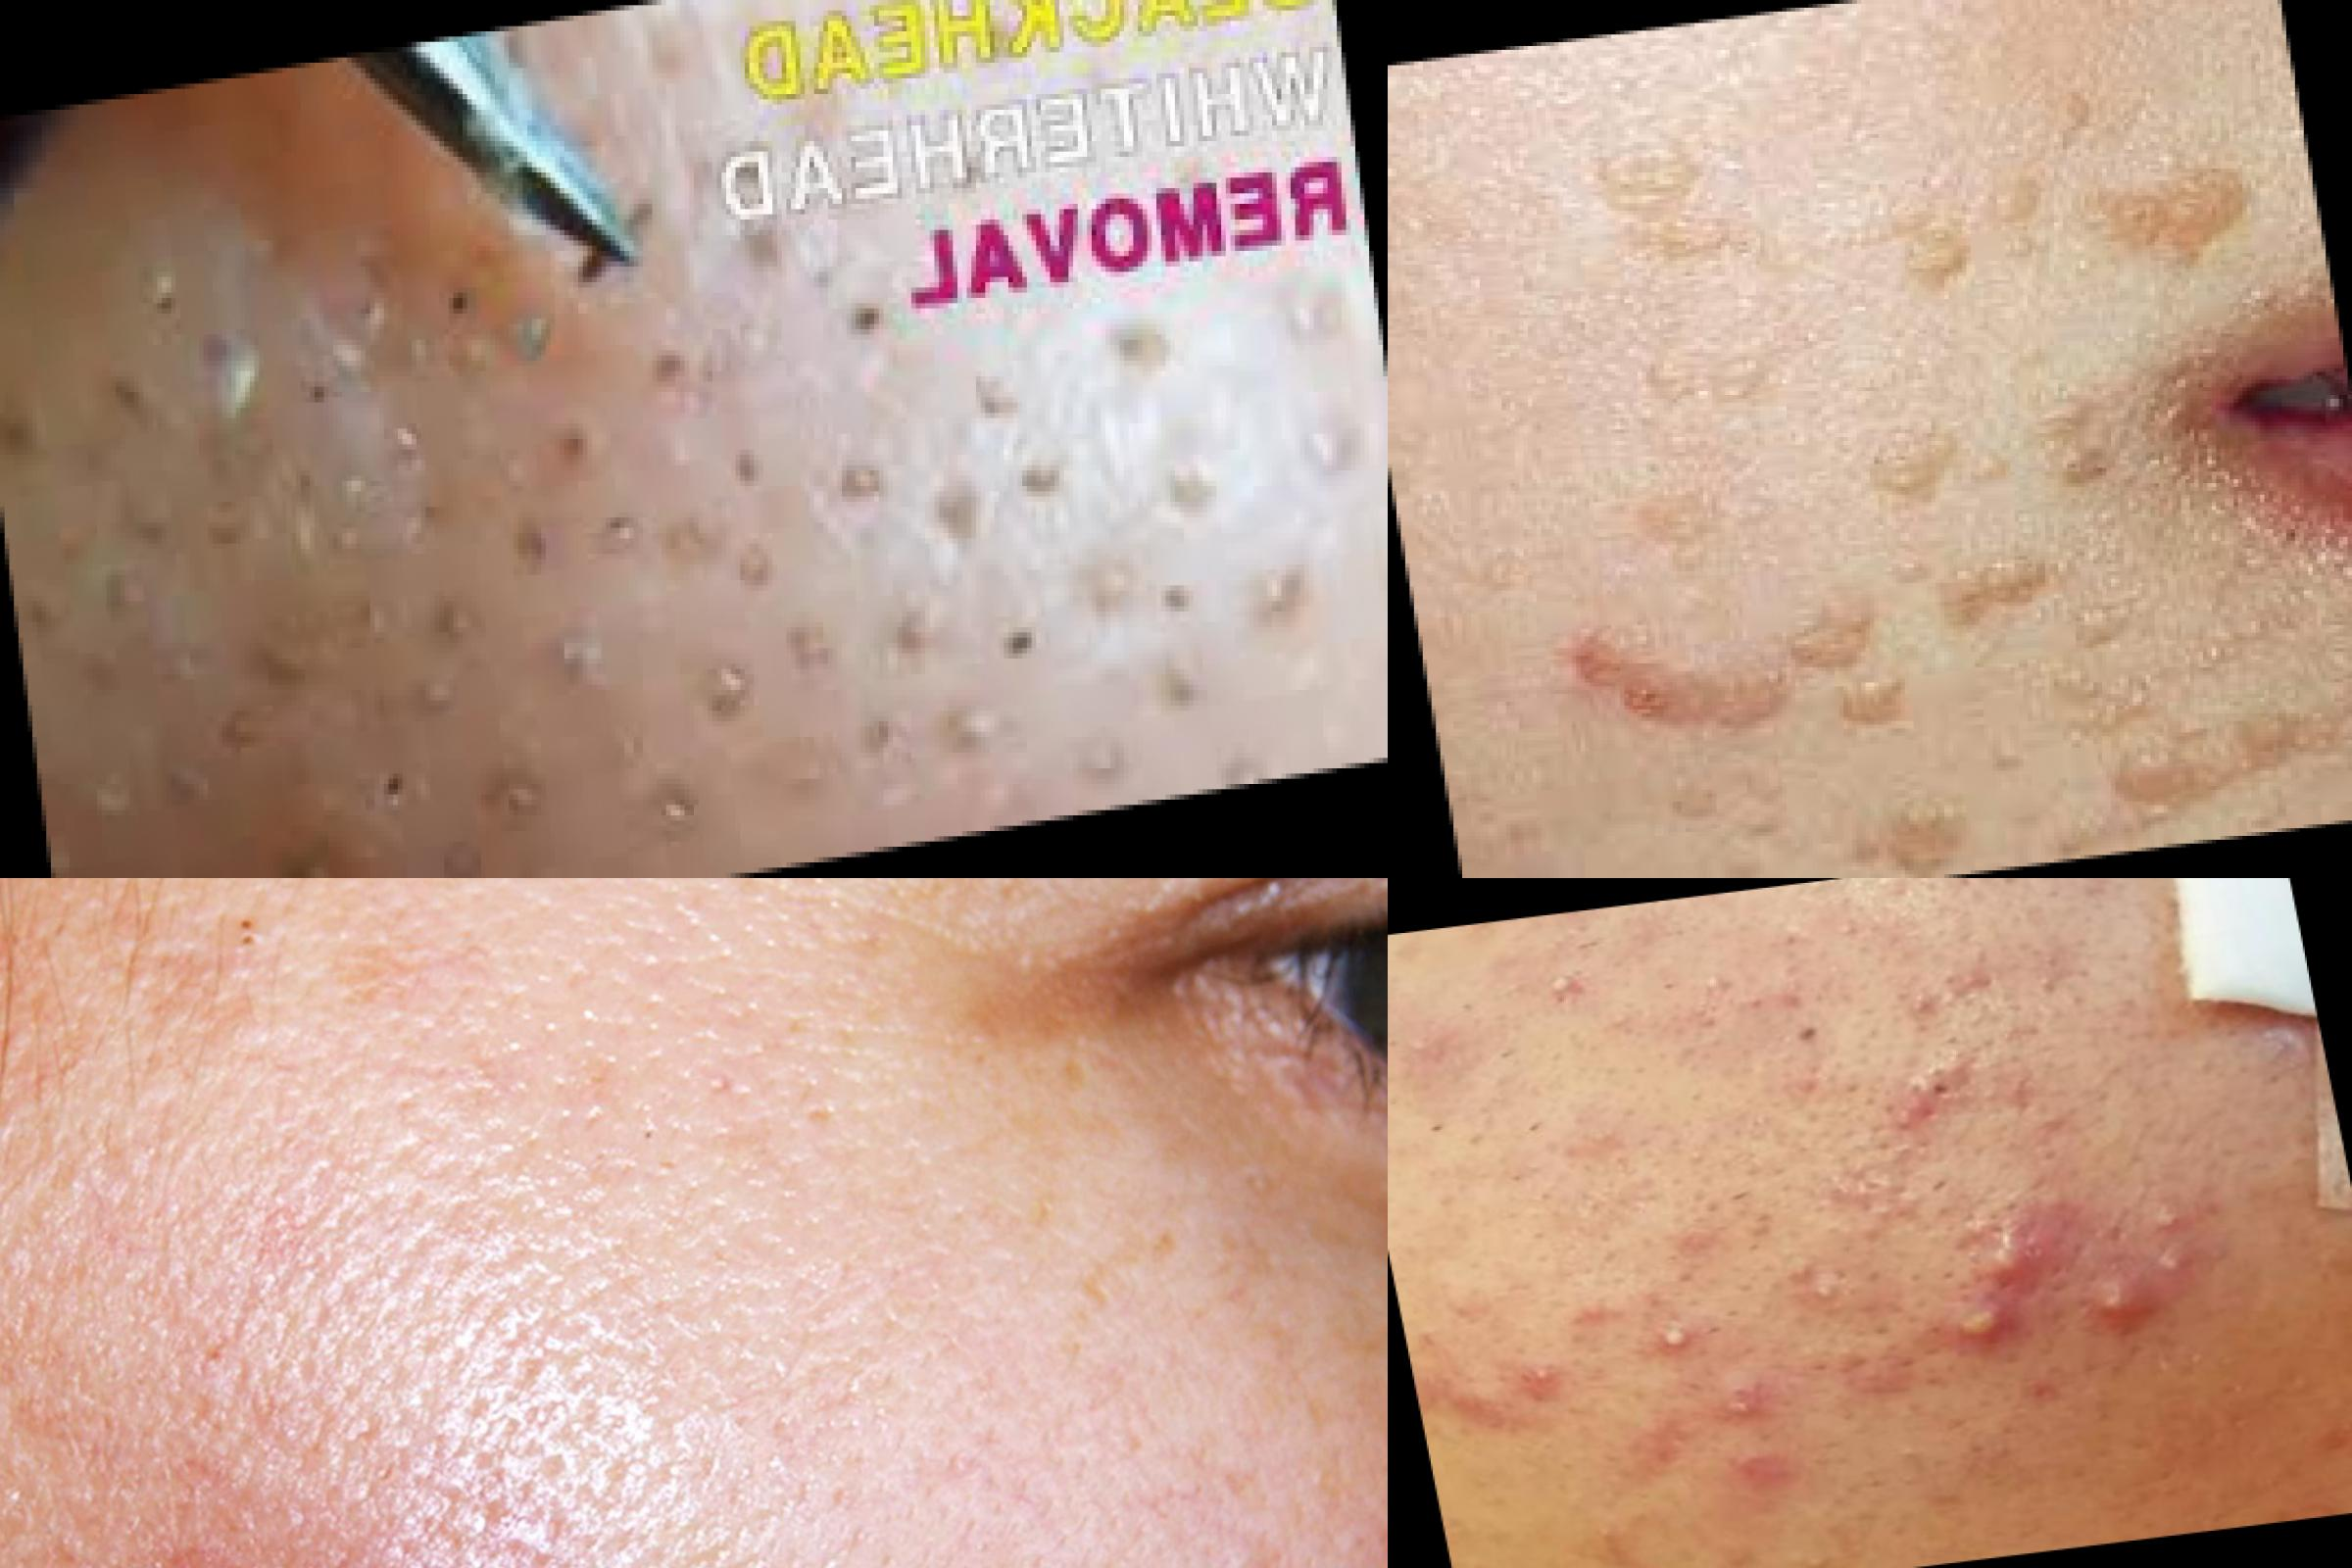acne_scars: (84, 1487, 289, 1568)
blackhead: (5, 137, 856, 878), (1031, 289, 1340, 780), (780, 341, 1073, 765), (164, 878, 338, 1038), (1855, 1057, 1979, 1150), (1799, 1172, 1927, 1235), (1883, 1433, 1960, 1491)
cystic: (1946, 1215, 2063, 1297)
flat_wart: (1865, 56, 2273, 329), (2072, 675, 2352, 817), (1582, 115, 1766, 276), (1867, 509, 2081, 647), (1771, 576, 1934, 737), (1801, 759, 1984, 878), (1843, 408, 2021, 527), (2000, 355, 2131, 502)
purulent: (1916, 1295, 2014, 1388), (1502, 954, 1605, 1022), (1631, 1309, 1710, 1374), (1780, 1269, 1848, 1328), (2091, 1276, 2151, 1340), (2137, 1234, 2203, 1290), (2137, 1195, 2200, 1246)
whitehead: (1754, 894, 1883, 968), (1701, 1370, 1785, 1438), (1389, 1015, 1460, 1073), (1500, 1358, 1568, 1402), (1683, 959, 1747, 1006), (1580, 992, 1643, 1039)
